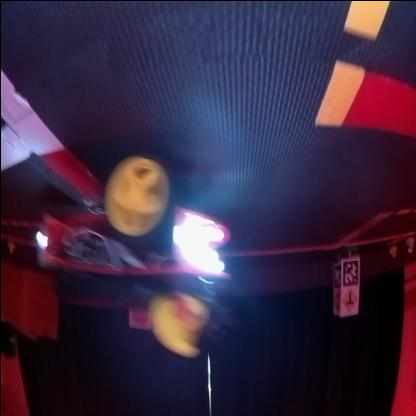Duckie: (148, 295, 206, 355), (402, 238, 412, 252), (390, 246, 394, 256)
Duckiebot: (36, 156, 228, 302)
Intersection sign: (340, 290, 356, 314)
QR code: (340, 259, 358, 285)
